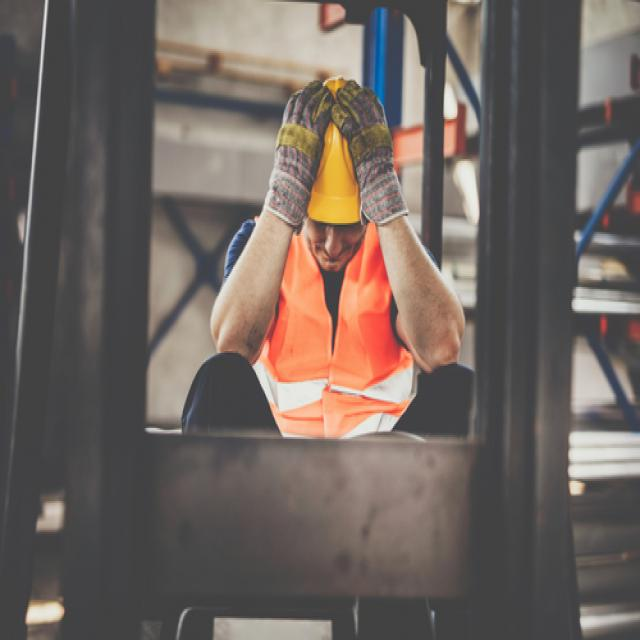helmet: (278, 69, 384, 226)
vest: (245, 206, 435, 432)
